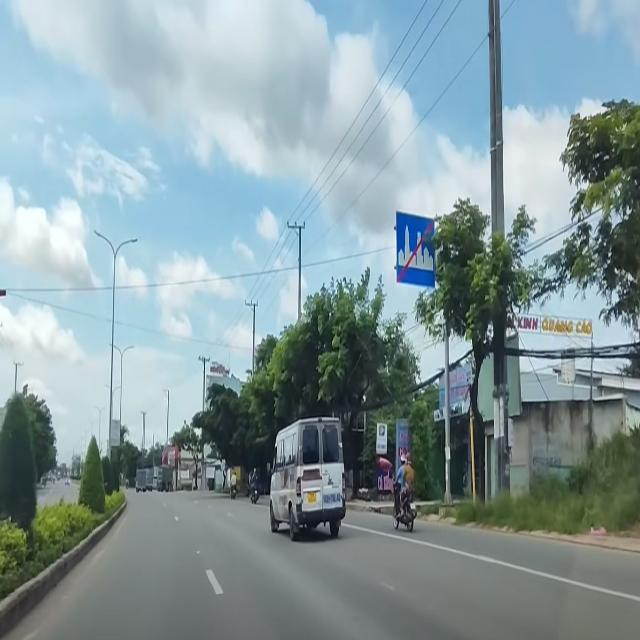Bien hieu lenh het khu dong dan cu: (395, 205, 440, 297)
